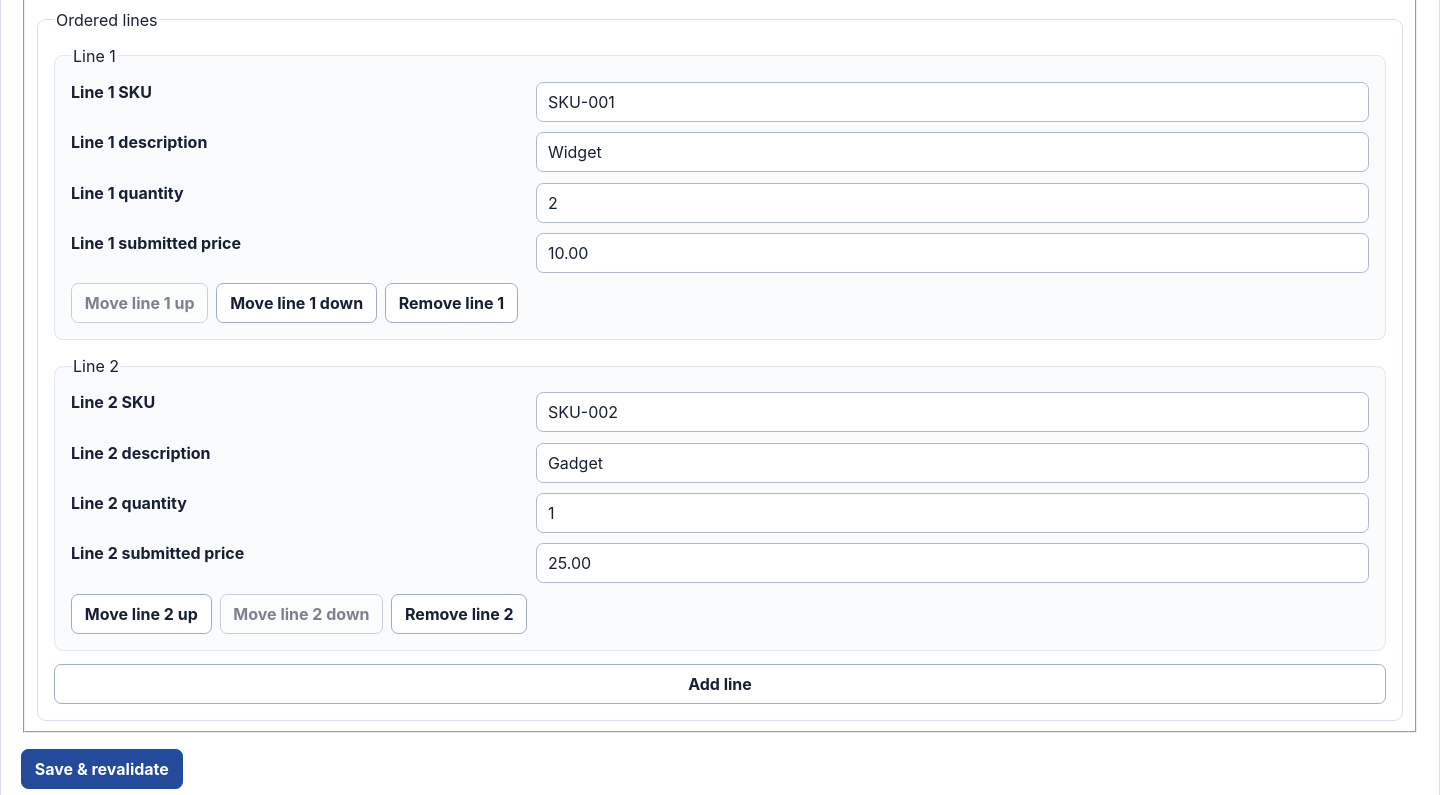
Test: ReviewDraftForm › uses a fixed safe message for unknown failures and leaves the draft usable
(page scrolled)
Step 1. Click the button "Save & revalidate" → (102, 769), box [21, 749, 183, 789]
(page scrolled)
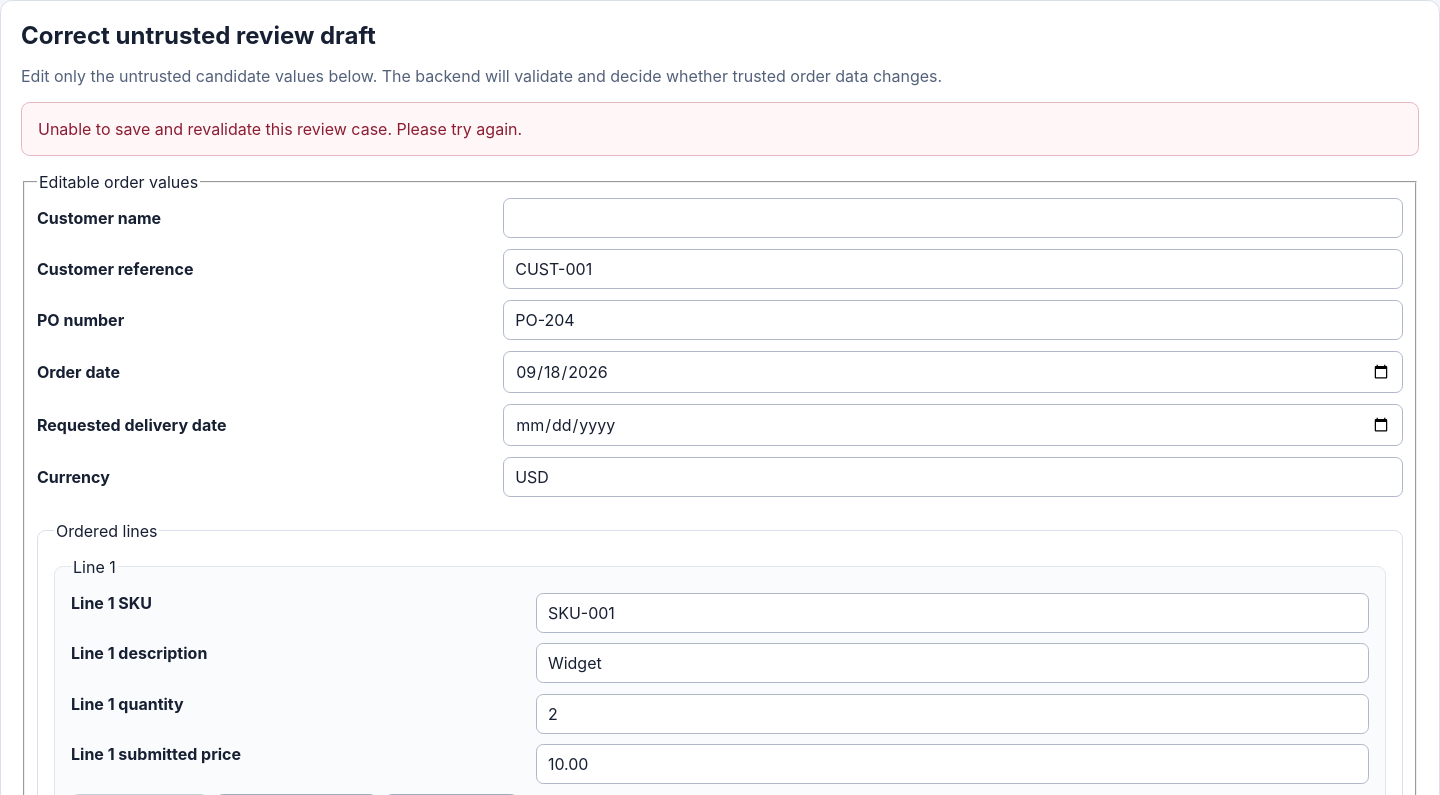
expect the field labelled "Customer reference" holds "CUST-001": met, box [503, 249, 1403, 289]
expect the message reads "Unable to save and revalidate this review case. Please try again.": met, box [38, 119, 522, 139]
